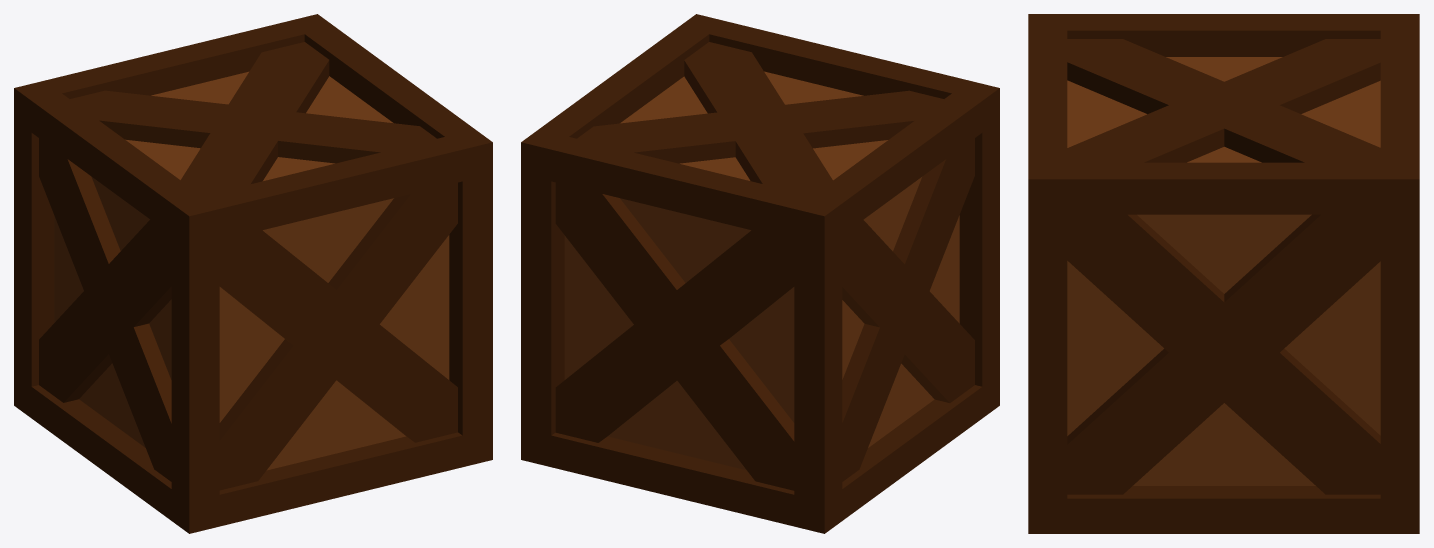
The model's file is Crate_01.fbx.
3 renders of one model, left to right at view 1: azimuth 30°, elevation 25°; view 2: azimuth 150°, elevation 25°; view 3: azimuth 270°, elevation 25°, orthographic. The views are drawn at different scales.
Visible parts, largest first — view 1: Cube; view 2: Cube; view 3: Cube.
Boxes of the visible parts, x1,y1,x2,y2 form: Cube: [14, 14, 492, 533]; Cube: [521, 14, 999, 533]; Cube: [1028, 14, 1419, 533].
Size of the model in its own units: 200 by 200 by 200.
